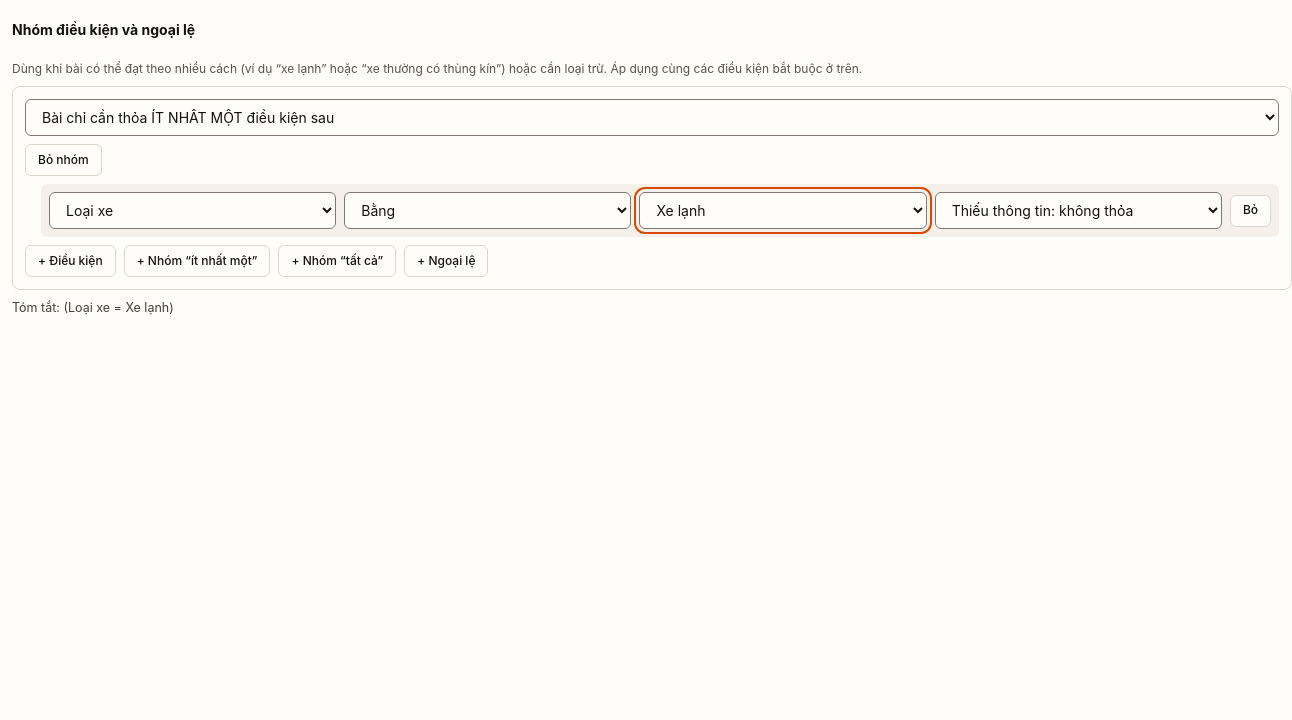
Test: ConditionEditor › builds “xe lạnh hoặc xe thường có thùng kín” plus an exception without writing JSON
Earlier steps of the test are not shown.
Later steps or results of the test are not shown.
Click the button "+ Nhóm “tất cả”": [337, 261] box [278,245,396,277]
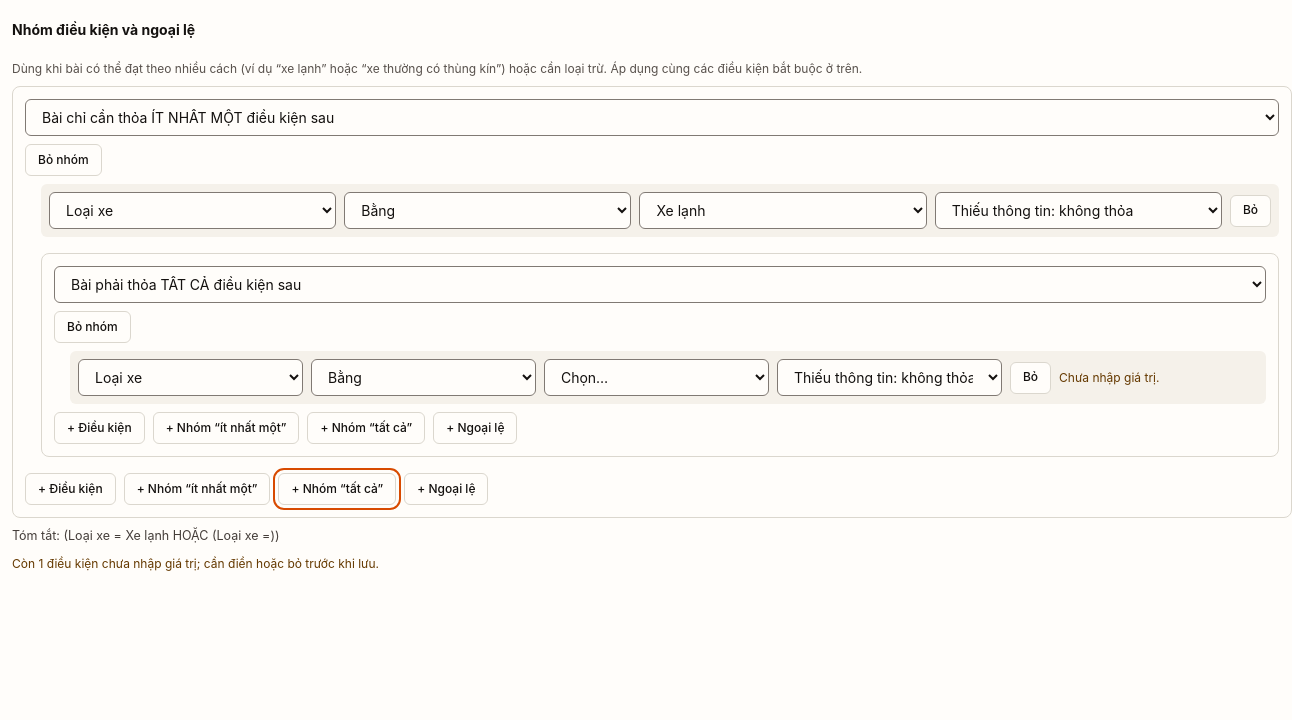
Select "Loại xe" in the dropdown named "Nhóm điều kiện › 2 › 1: trường": [190, 378] box [78,359,303,396]
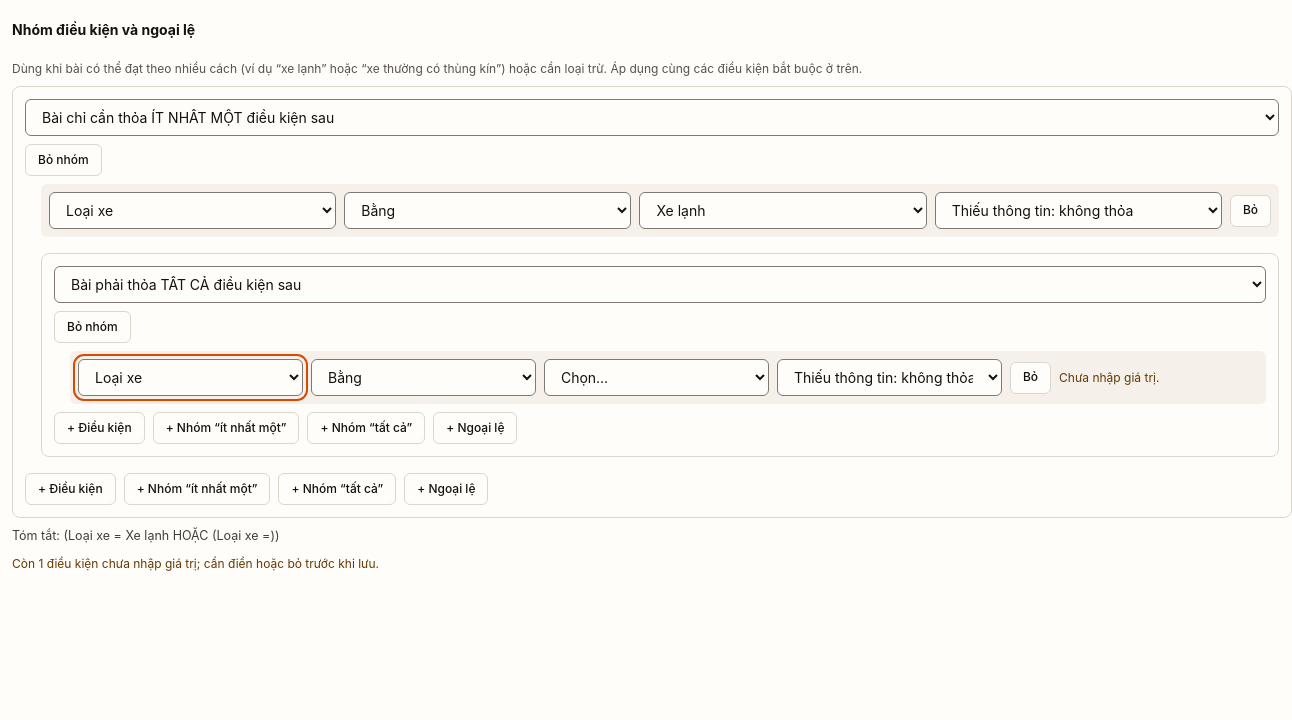
Select "Xe thường" in the dropdown named "Nhóm điều kiện › 2 › 1: giá trị": [656, 378] box [544,359,769,396]
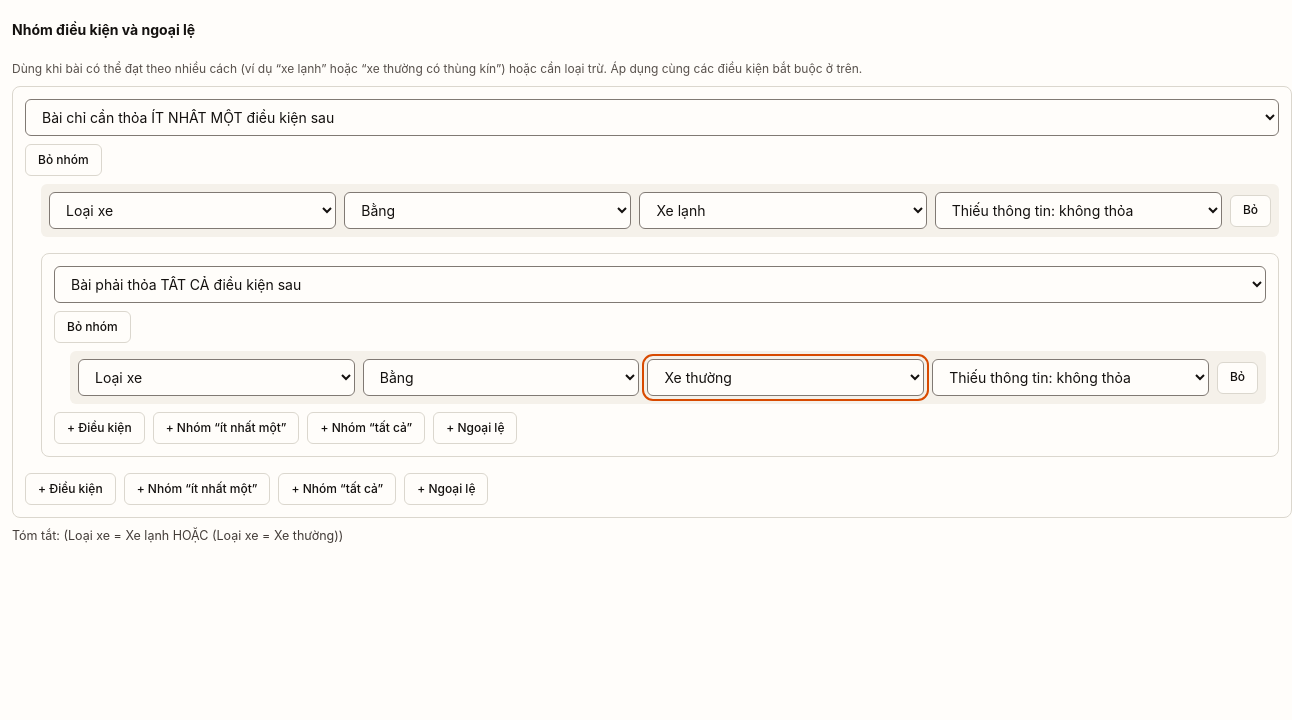
Click the 1st button "+ Điều kiện": [99, 428] box [54,412,145,444]
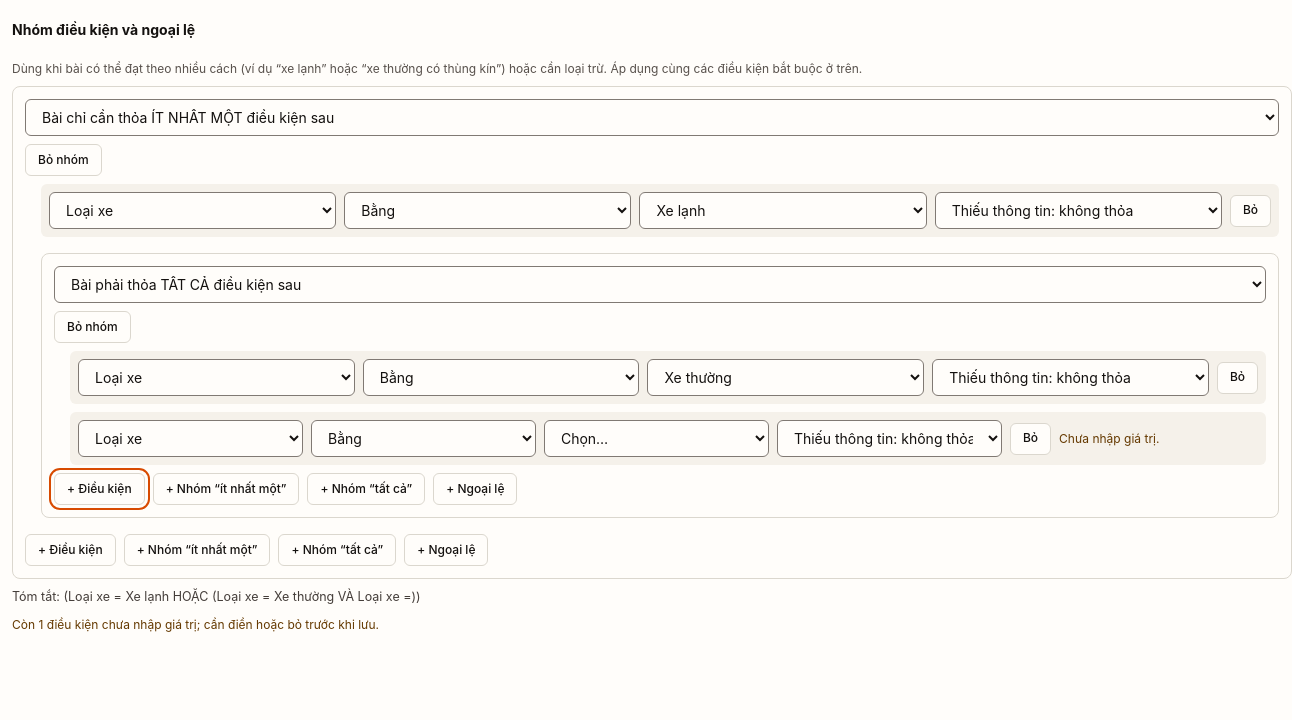
Select "Thùng kín" in the dropdown named "Nhóm điều kiện › 2 › 2: trường": [190, 439] box [78,420,303,457]
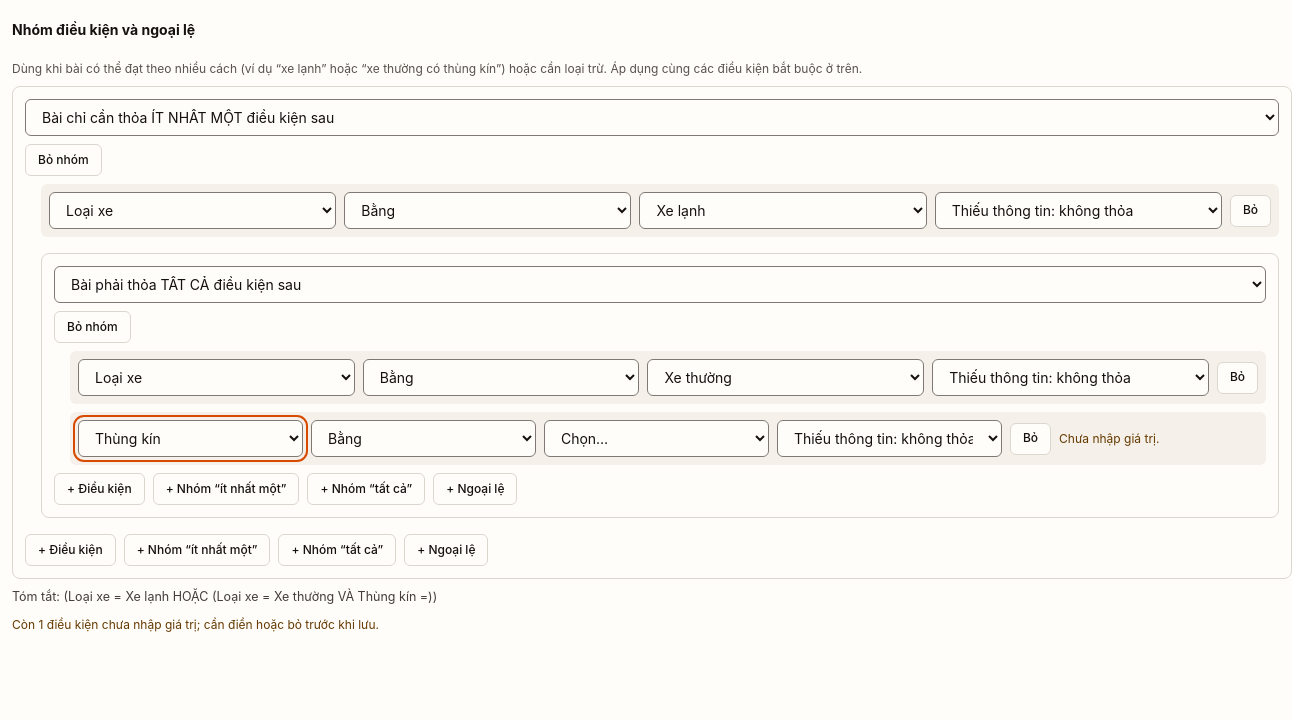
Select "Có" in the dropdown named "Nhóm điều kiện › 2 › 2: giá trị": [656, 439] box [544,420,769,457]
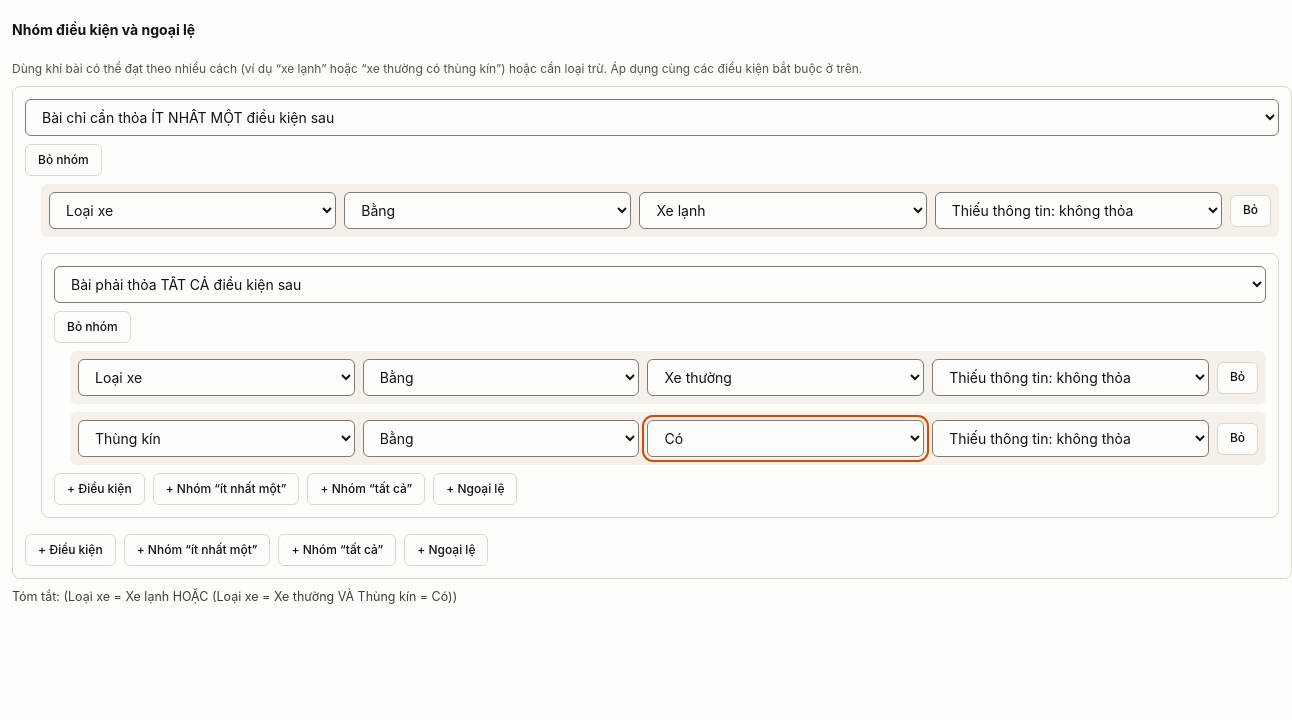
Result: the text with test id "condition-summary" shows "(Loại xe = Xe lạnh HOẶC (Loại xe = Xe thường VÀ Thùng kín = Có))" at [63,589,457,604]
